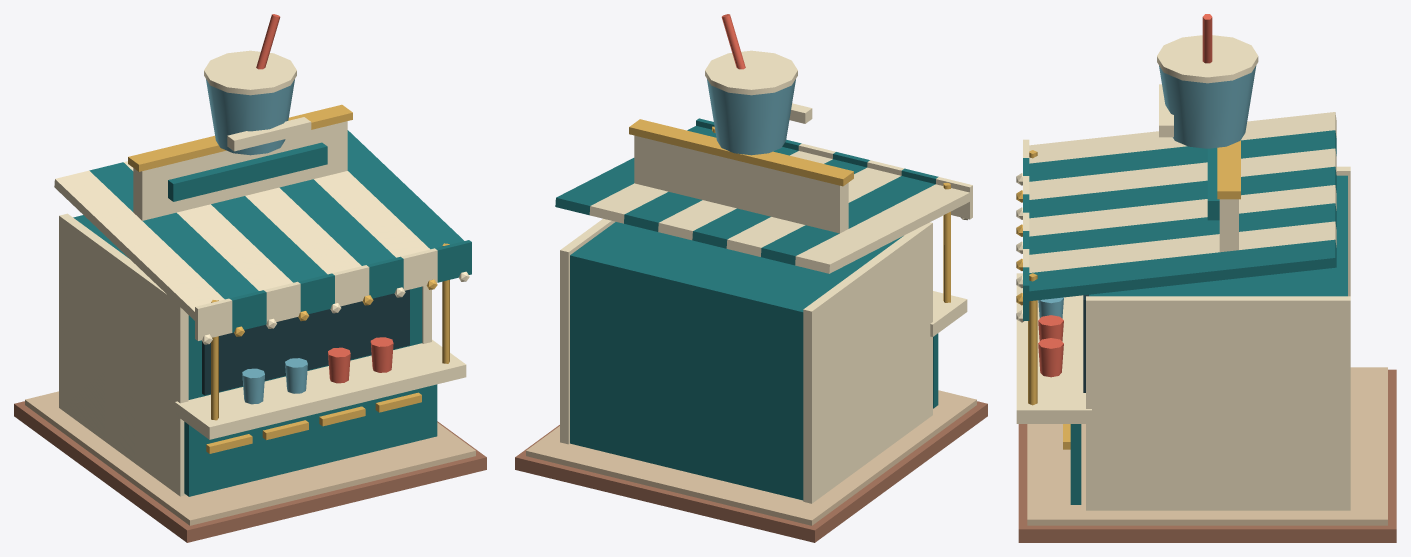
The model's file is stall_drink.glb.
3 renders of one model, left to right at view 1: azimuth 30°, elevation 25°; view 2: azimuth 150°, elevation 25°; view 3: azimuth 270°, elevation 25°, orthographic. The views are drawn at different scales.
Parts seen in each view (by area): view 1: stall_drink; view 2: stall_drink; view 3: stall_drink.
Boxes of the visible parts, left/top/right/bottom form: stall_drink: left=14, top=14, right=486, bottom=542; stall_drink: left=515, top=14, right=987, bottom=542; stall_drink: left=1016, top=14, right=1396, bottom=542.
Bounding box in the file's own units: 3.5 × 4.71 × 3.52.
